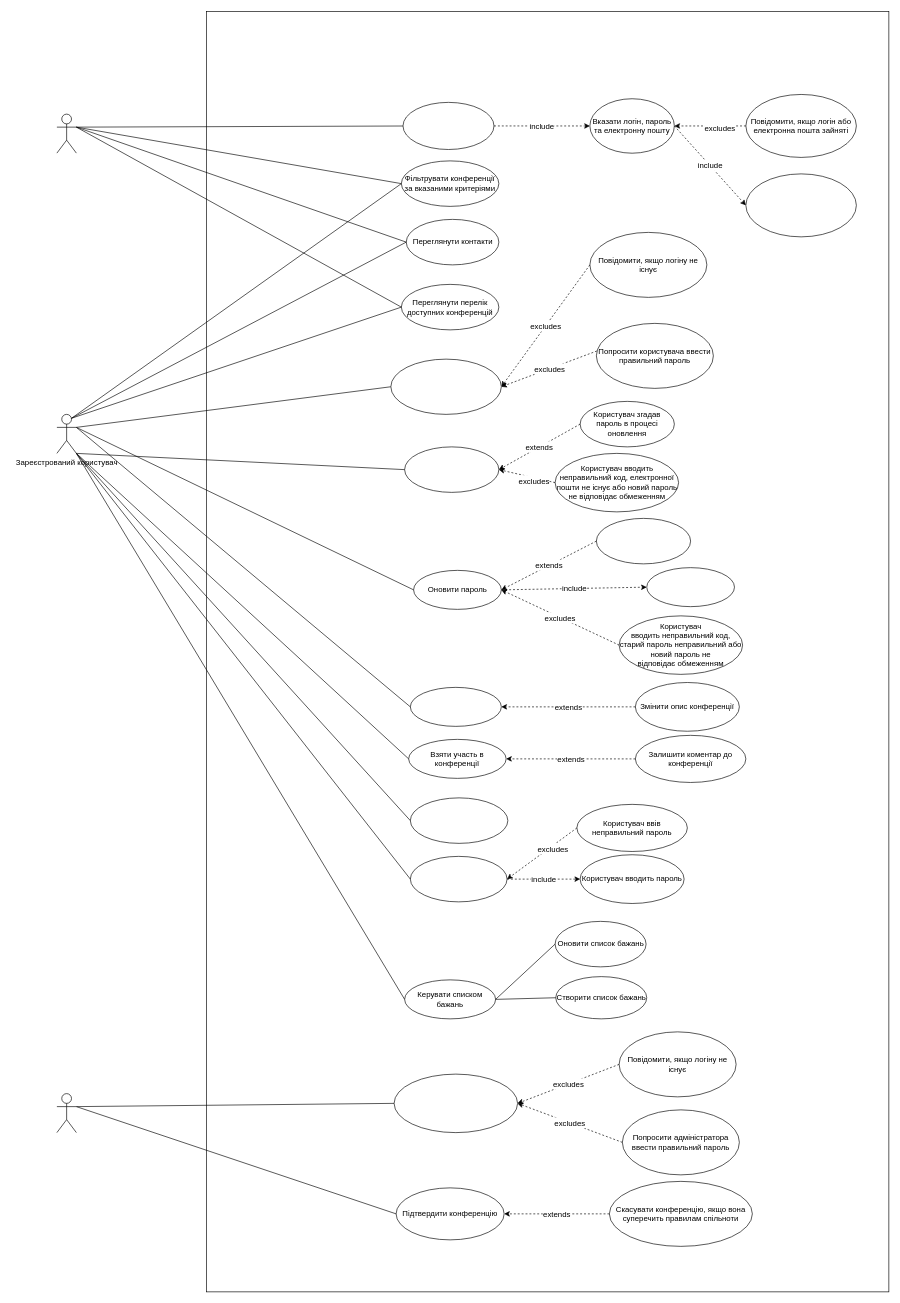
Some shapes in this 900 by 1303 pixel diagram are drawn without their labels. The shapes that lost their labels are listed below. From the top down, each one's centre as x and y in pixels, then its label:
At [66,133]: "Незареєстрований користувач".
At [448,126]: "Зареєструватися".
At [800,205]: "Надіслати підтвердження на електронну пошту".
At [445,386]: "Авторизуватися в системі з правами користувача".
At [451,469]: "Відновити пароль".
At [643,541]: "Користувач передумав змінювати пароль".
At [690,587]: "Ввести старий пароль".
At [455,706]: "Створити конференцію".
At [459,820]: "Переглянути особисту інформацію в кабінеті".
At [458,879]: "Змінити особисту інформацію в кабінеті".
At [66,1113]: "Адміністратор".
At [455,1103]: "Авторизуватися в системі з правами адміністратора".
